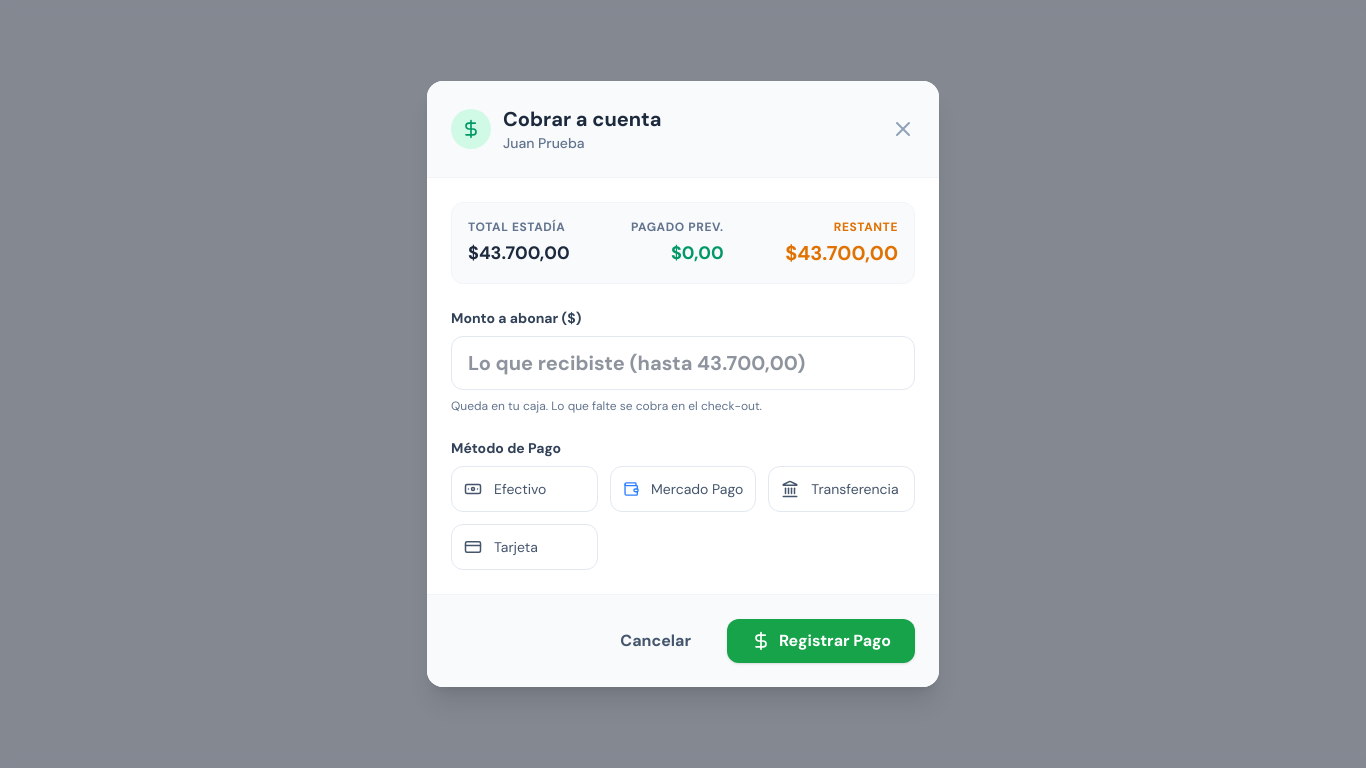
Test case: PaymentModal: cobro a cuenta antes del check-out › si el monto supera lo que falta, lo dice y no registra nada
This screenshot has width=1366, height=768.
Type "50.000" into the field labelled "Monto a abonar ($)" at (683, 363), box [451,336,915,390]
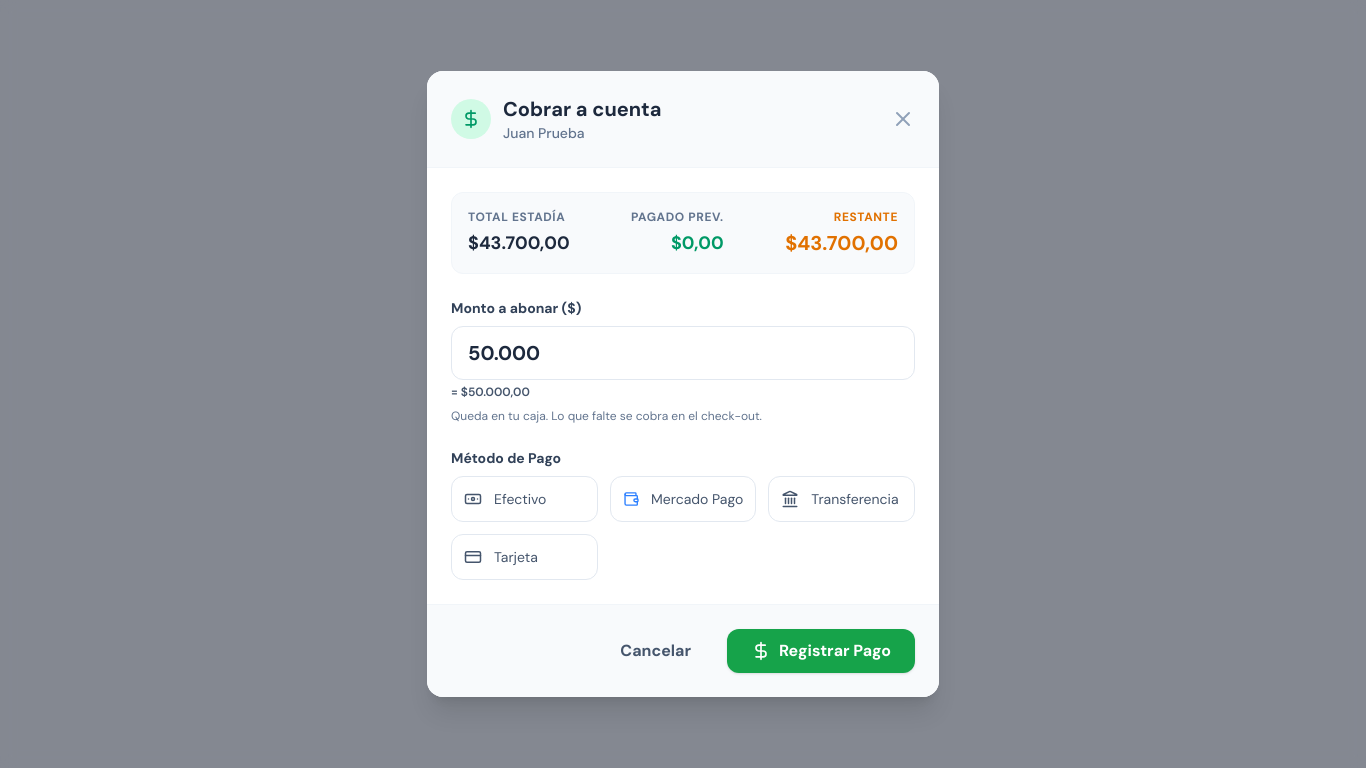
Click the radio button labelled "Efectivo" at (524, 499), box [451,476,598,522]
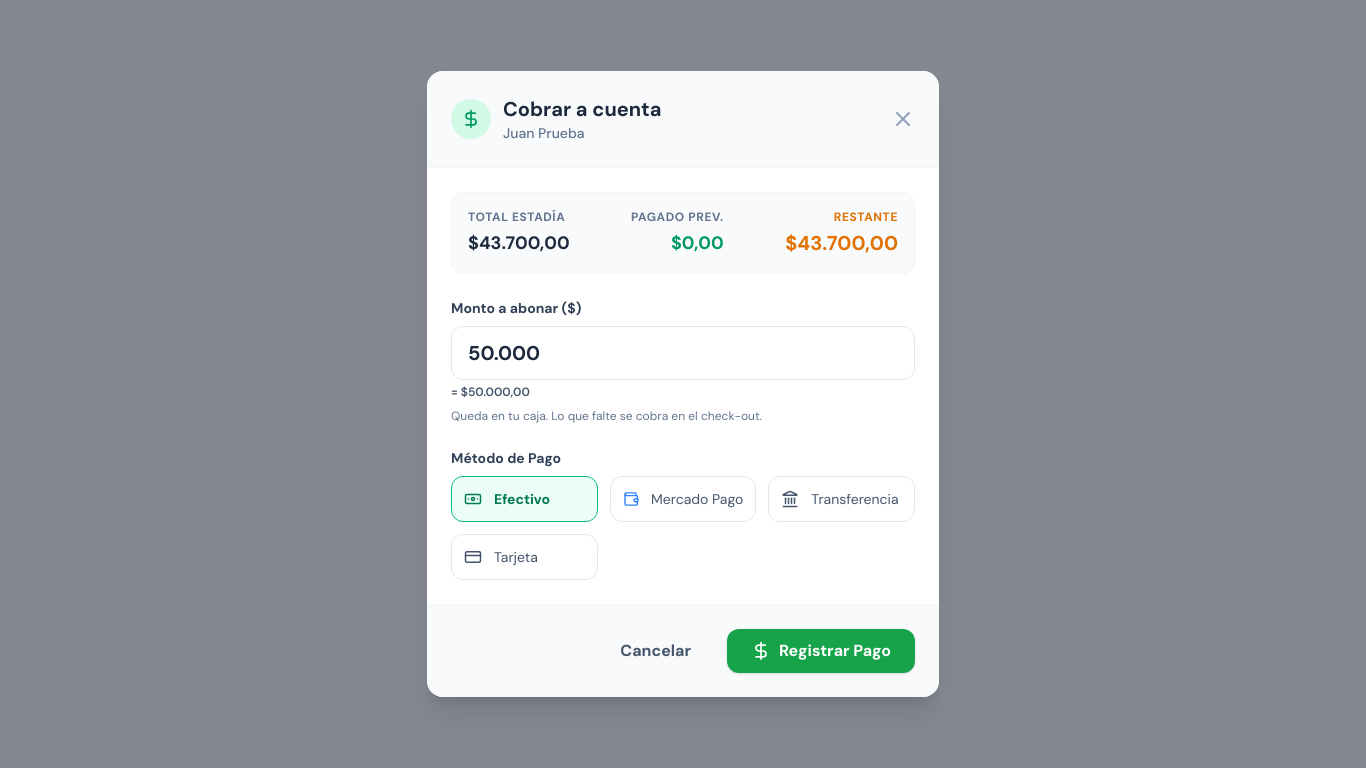
Click the button "Registrar Pago" at (821, 651), box [727,629,915,673]
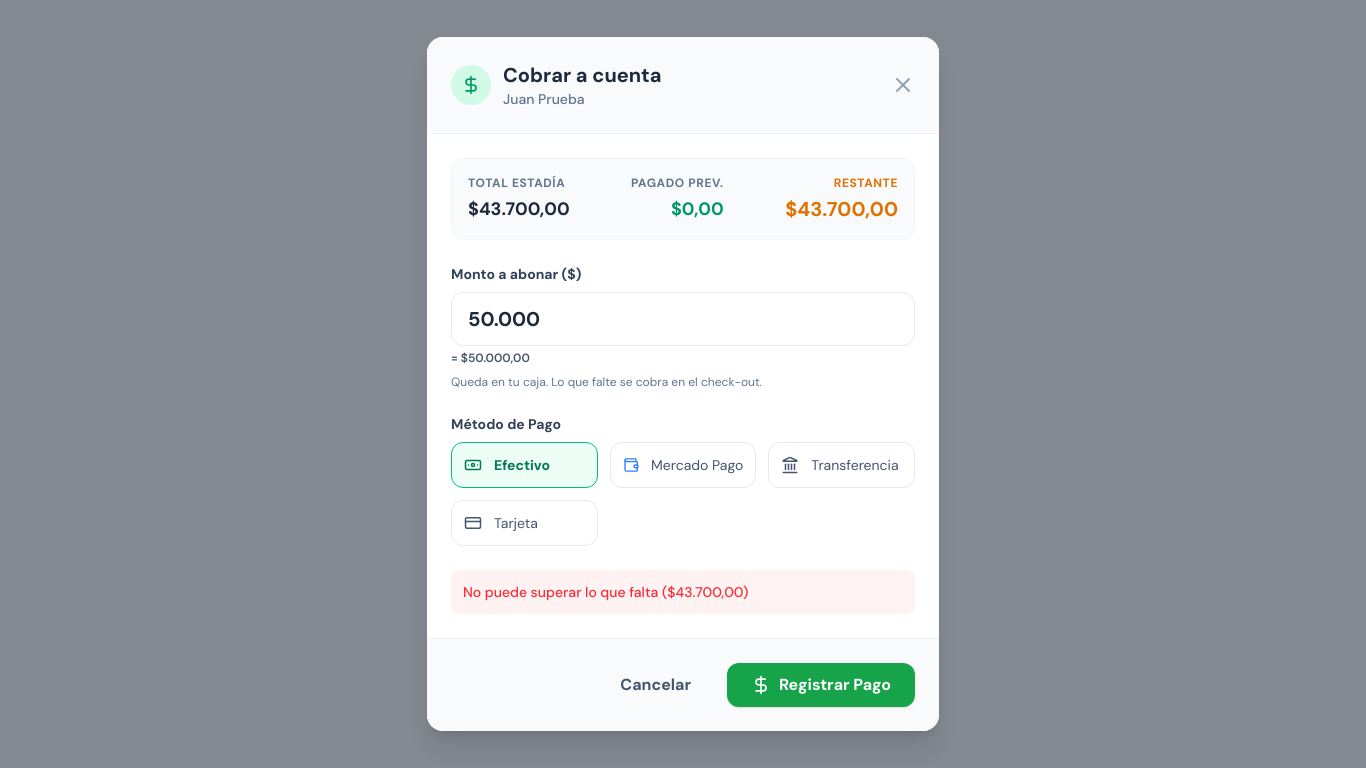
Expected: the text "No puede superar lo que falta ($43.700,00)" is shown, [451,570,915,614]
